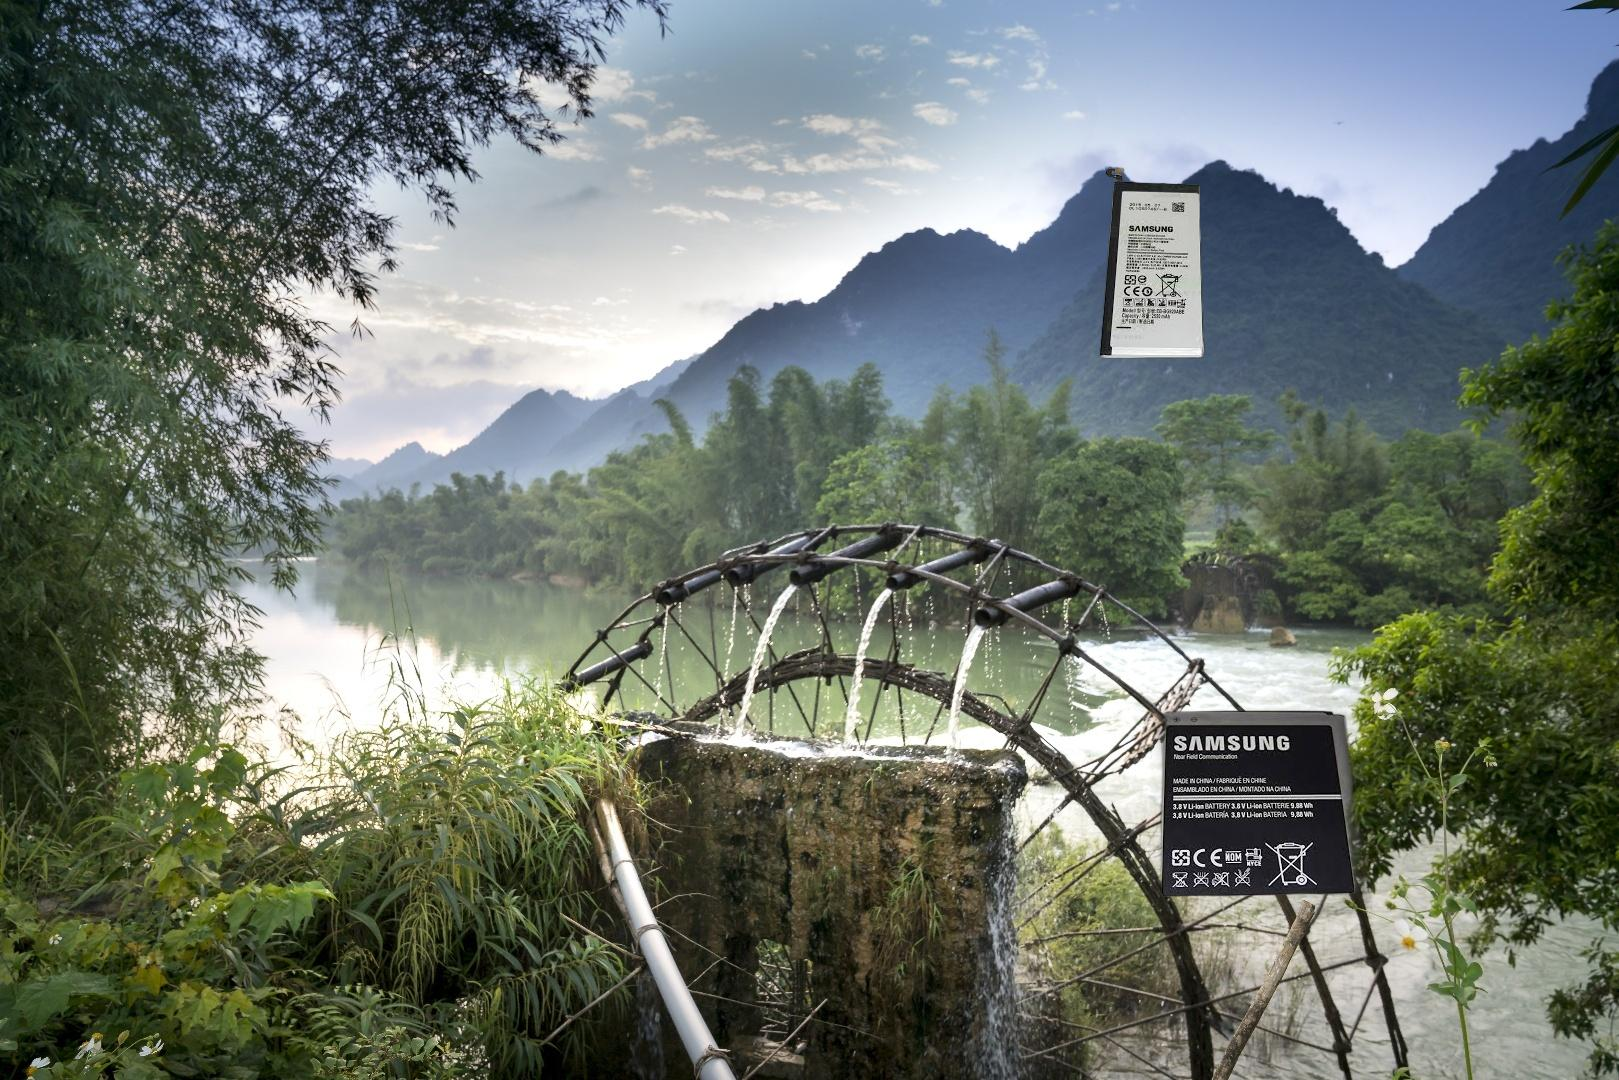battery: (1146, 709, 1377, 923), (1096, 165, 1208, 360)
